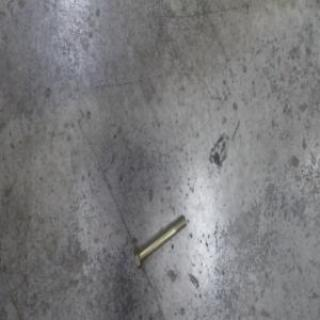Bolttrack_idkeyframe: (133, 212, 186, 272)
